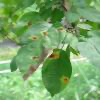Apple Scab Leaf: (17, 20, 62, 84), (39, 48, 74, 98)
